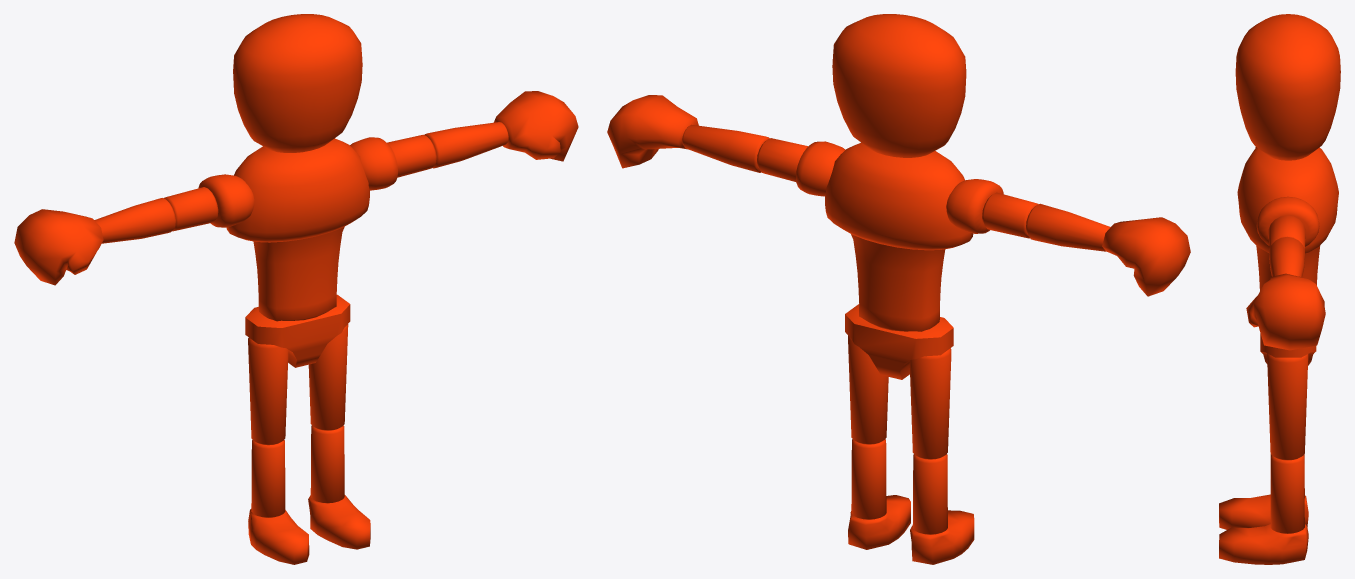
Rendered from Stickman_Footman.fbx.
The picture shows the model from 3 angles, left to right: view 1: azimuth 30°, elevation 25°; view 2: azimuth 150°, elevation 25°; view 3: azimuth 270°, elevation 25°; orthographic projection. The views are drawn at different scales.
Visible parts, largest first — view 1: Head, Chest, Lower_back, Hand_Right, Hand_Left, Hip_Right, Pelvis, Hip_Left, Tibia_Right, Tibia_Left, foot_right, Forearm_Right (+6 smaller); view 2: Head, Chest, Lower_back, Hand_Right, Hand_Left, Hip_Right, Pelvis, Hip_Left, Tibia_Left, Tibia_Right, Forearm_Right, Forearm_Left (+6 smaller); view 3: Head, Chest, Hand_Left, Hip_Left, foot_left, Tibia_Left, foot_right, Shoulder1_Left, Forearm_Left, Lower_back, Shoulder2_Left, Pelvis.
Part boxes in pixels (left/top/right/bottom): Head: left=233, top=14, right=362, bottom=152; Chest: left=226, top=138, right=369, bottom=242; Lower_back: left=253, top=227, right=344, bottom=321; Hand_Right: left=14, top=209, right=103, bottom=285; Hand_Left: left=494, top=91, right=578, bottom=161; Hip_Right: left=248, top=337, right=288, bottom=445; Pelvis: left=245, top=294, right=350, bottom=367; Hip_Left: left=308, top=324, right=348, bottom=430; Tibia_Right: left=251, top=440, right=285, bottom=517; Tibia_Left: left=310, top=425, right=344, bottom=503; foot_right: left=248, top=509, right=309, bottom=564; Forearm_Right: left=94, top=198, right=175, bottom=243; Head: left=832, top=14, right=966, bottom=157; Chest: left=825, top=142, right=973, bottom=250; Lower_back: left=851, top=234, right=945, bottom=331; Hand_Right: left=1102, top=217, right=1190, bottom=296; Hand_Left: left=607, top=95, right=698, bottom=168; Hip_Right: left=909, top=348, right=951, bottom=459; Pelvis: left=845, top=304, right=953, bottom=379; Hip_Left: left=848, top=335, right=888, bottom=444; Tibia_Left: left=851, top=439, right=886, bottom=519; Tibia_Right: left=912, top=454, right=947, bottom=534; Forearm_Right: left=1026, top=203, right=1110, bottom=251; Forearm_Left: left=682, top=124, right=769, bottom=172; Head: left=1235, top=14, right=1340, bottom=160; Chest: left=1237, top=147, right=1338, bottom=253; Hand_Left: left=1246, top=273, right=1325, bottom=350; Hip_Left: left=1267, top=353, right=1308, bottom=460; foot_left: left=1219, top=524, right=1308, bottom=564; Tibia_Left: left=1270, top=455, right=1304, bottom=533; foot_right: left=1219, top=494, right=1308, bottom=529; Shoulder1_Left: left=1256, top=196, right=1319, bottom=246; Forearm_Left: left=1269, top=236, right=1304, bottom=277; Lower_back: left=1256, top=245, right=1320, bottom=290; Shoulder2_Left: left=1268, top=215, right=1305, bottom=249; Pelvis: left=1260, top=333, right=1316, bottom=365.
Bounding box in the file's own units: 2.19 × 1.96 × 0.4185.
